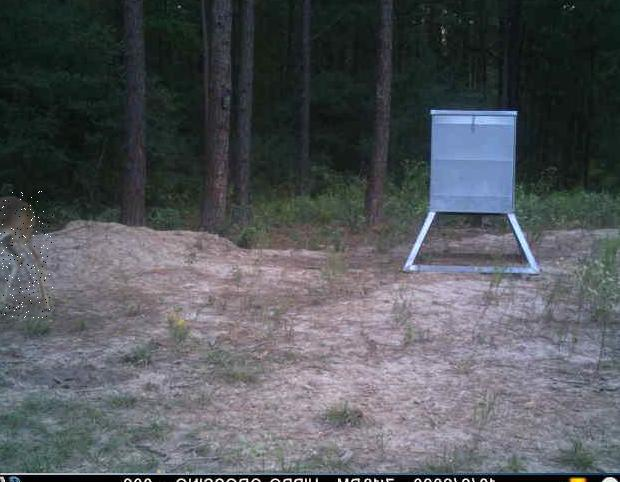Deer: (0, 191, 53, 318)
